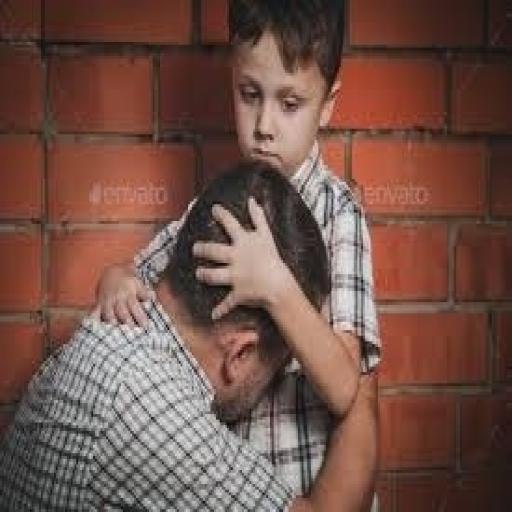hugging: (0, 157, 363, 509)
